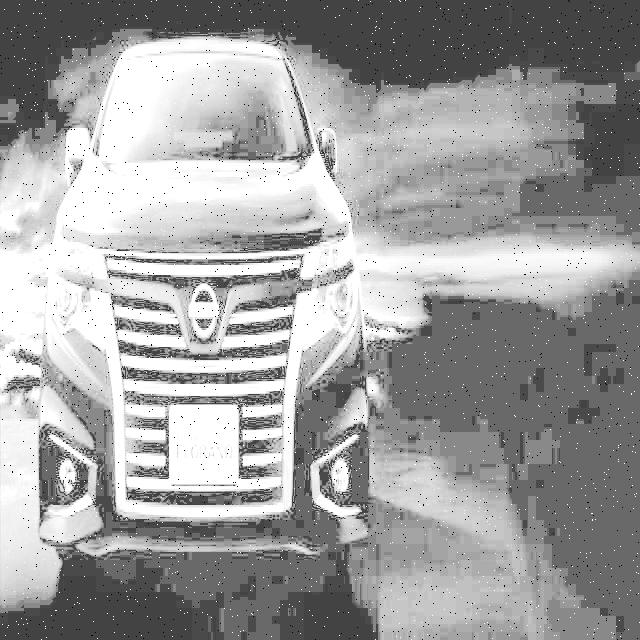Car: (40, 37, 368, 595)
